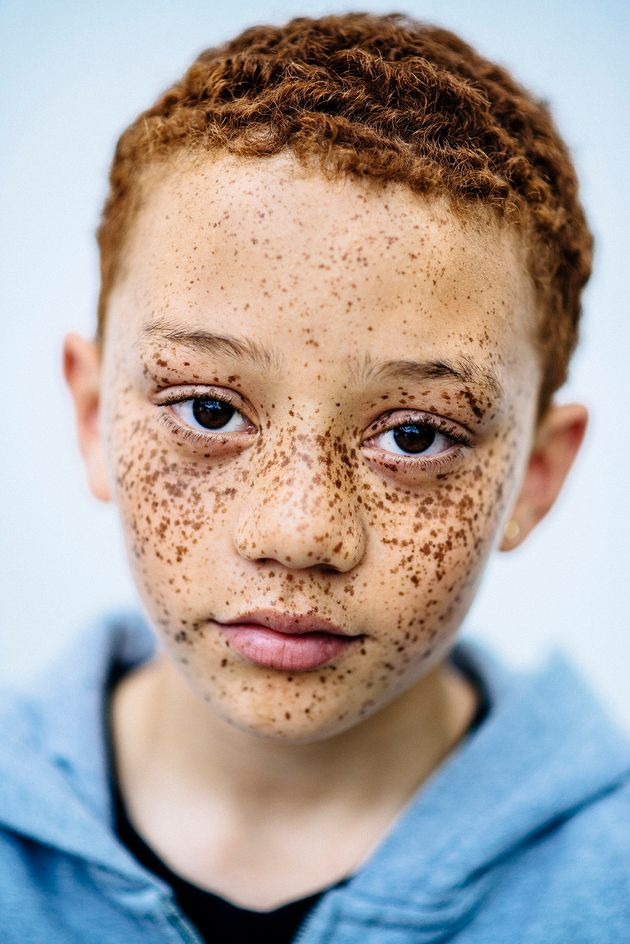bare: (104, 462, 499, 743)
